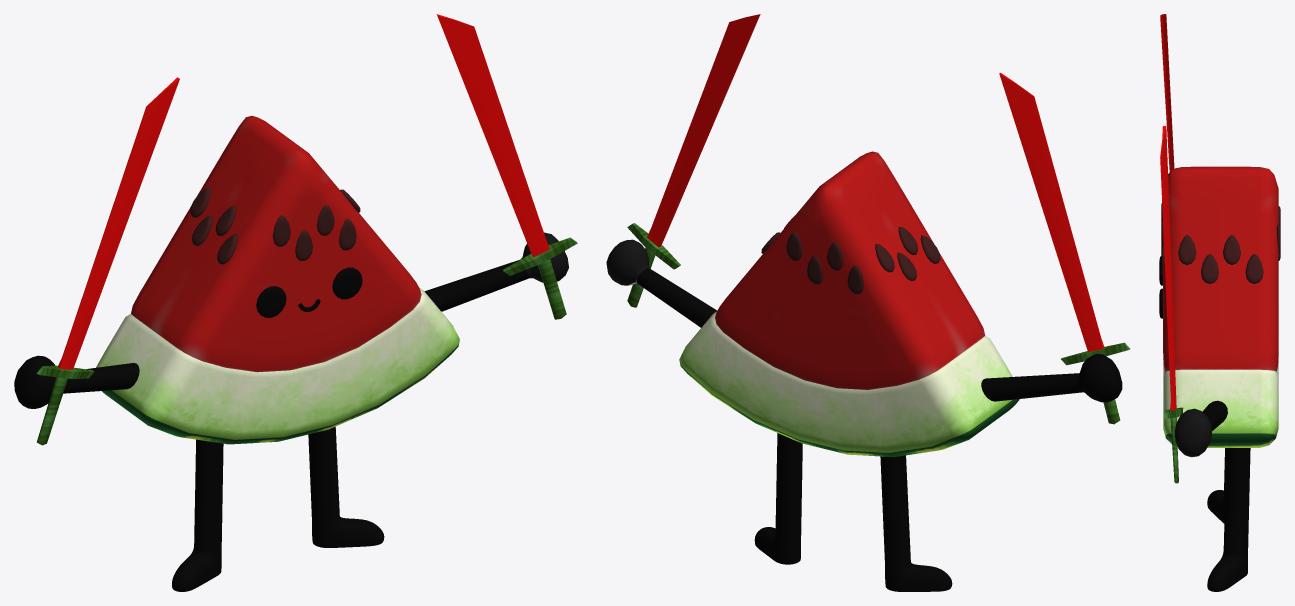
The model's file is melon.fbx.
3 renders of one model, left to right at view 1: azimuth 30°, elevation 25°; view 2: azimuth 150°, elevation 25°; view 3: azimuth 270°, elevation 25°, orthographic. The views are drawn at different scales.
Visible parts, largest first — view 1: polySurface65, polySurface64; view 2: polySurface65, polySurface64; view 3: polySurface65, polySurface64.
Part boxes in pixels (x1,y1,x2,y2): polySurface65: (96, 116, 459, 444); polySurface64: (14, 14, 577, 591); polySurface65: (679, 151, 1019, 456); polySurface64: (606, 14, 1130, 591); polySurface65: (1159, 166, 1280, 447); polySurface64: (1160, 14, 1250, 591).
Size of the model in its own units: 41.47 by 38.97 by 8.98.
2 materials, 2 textured.
